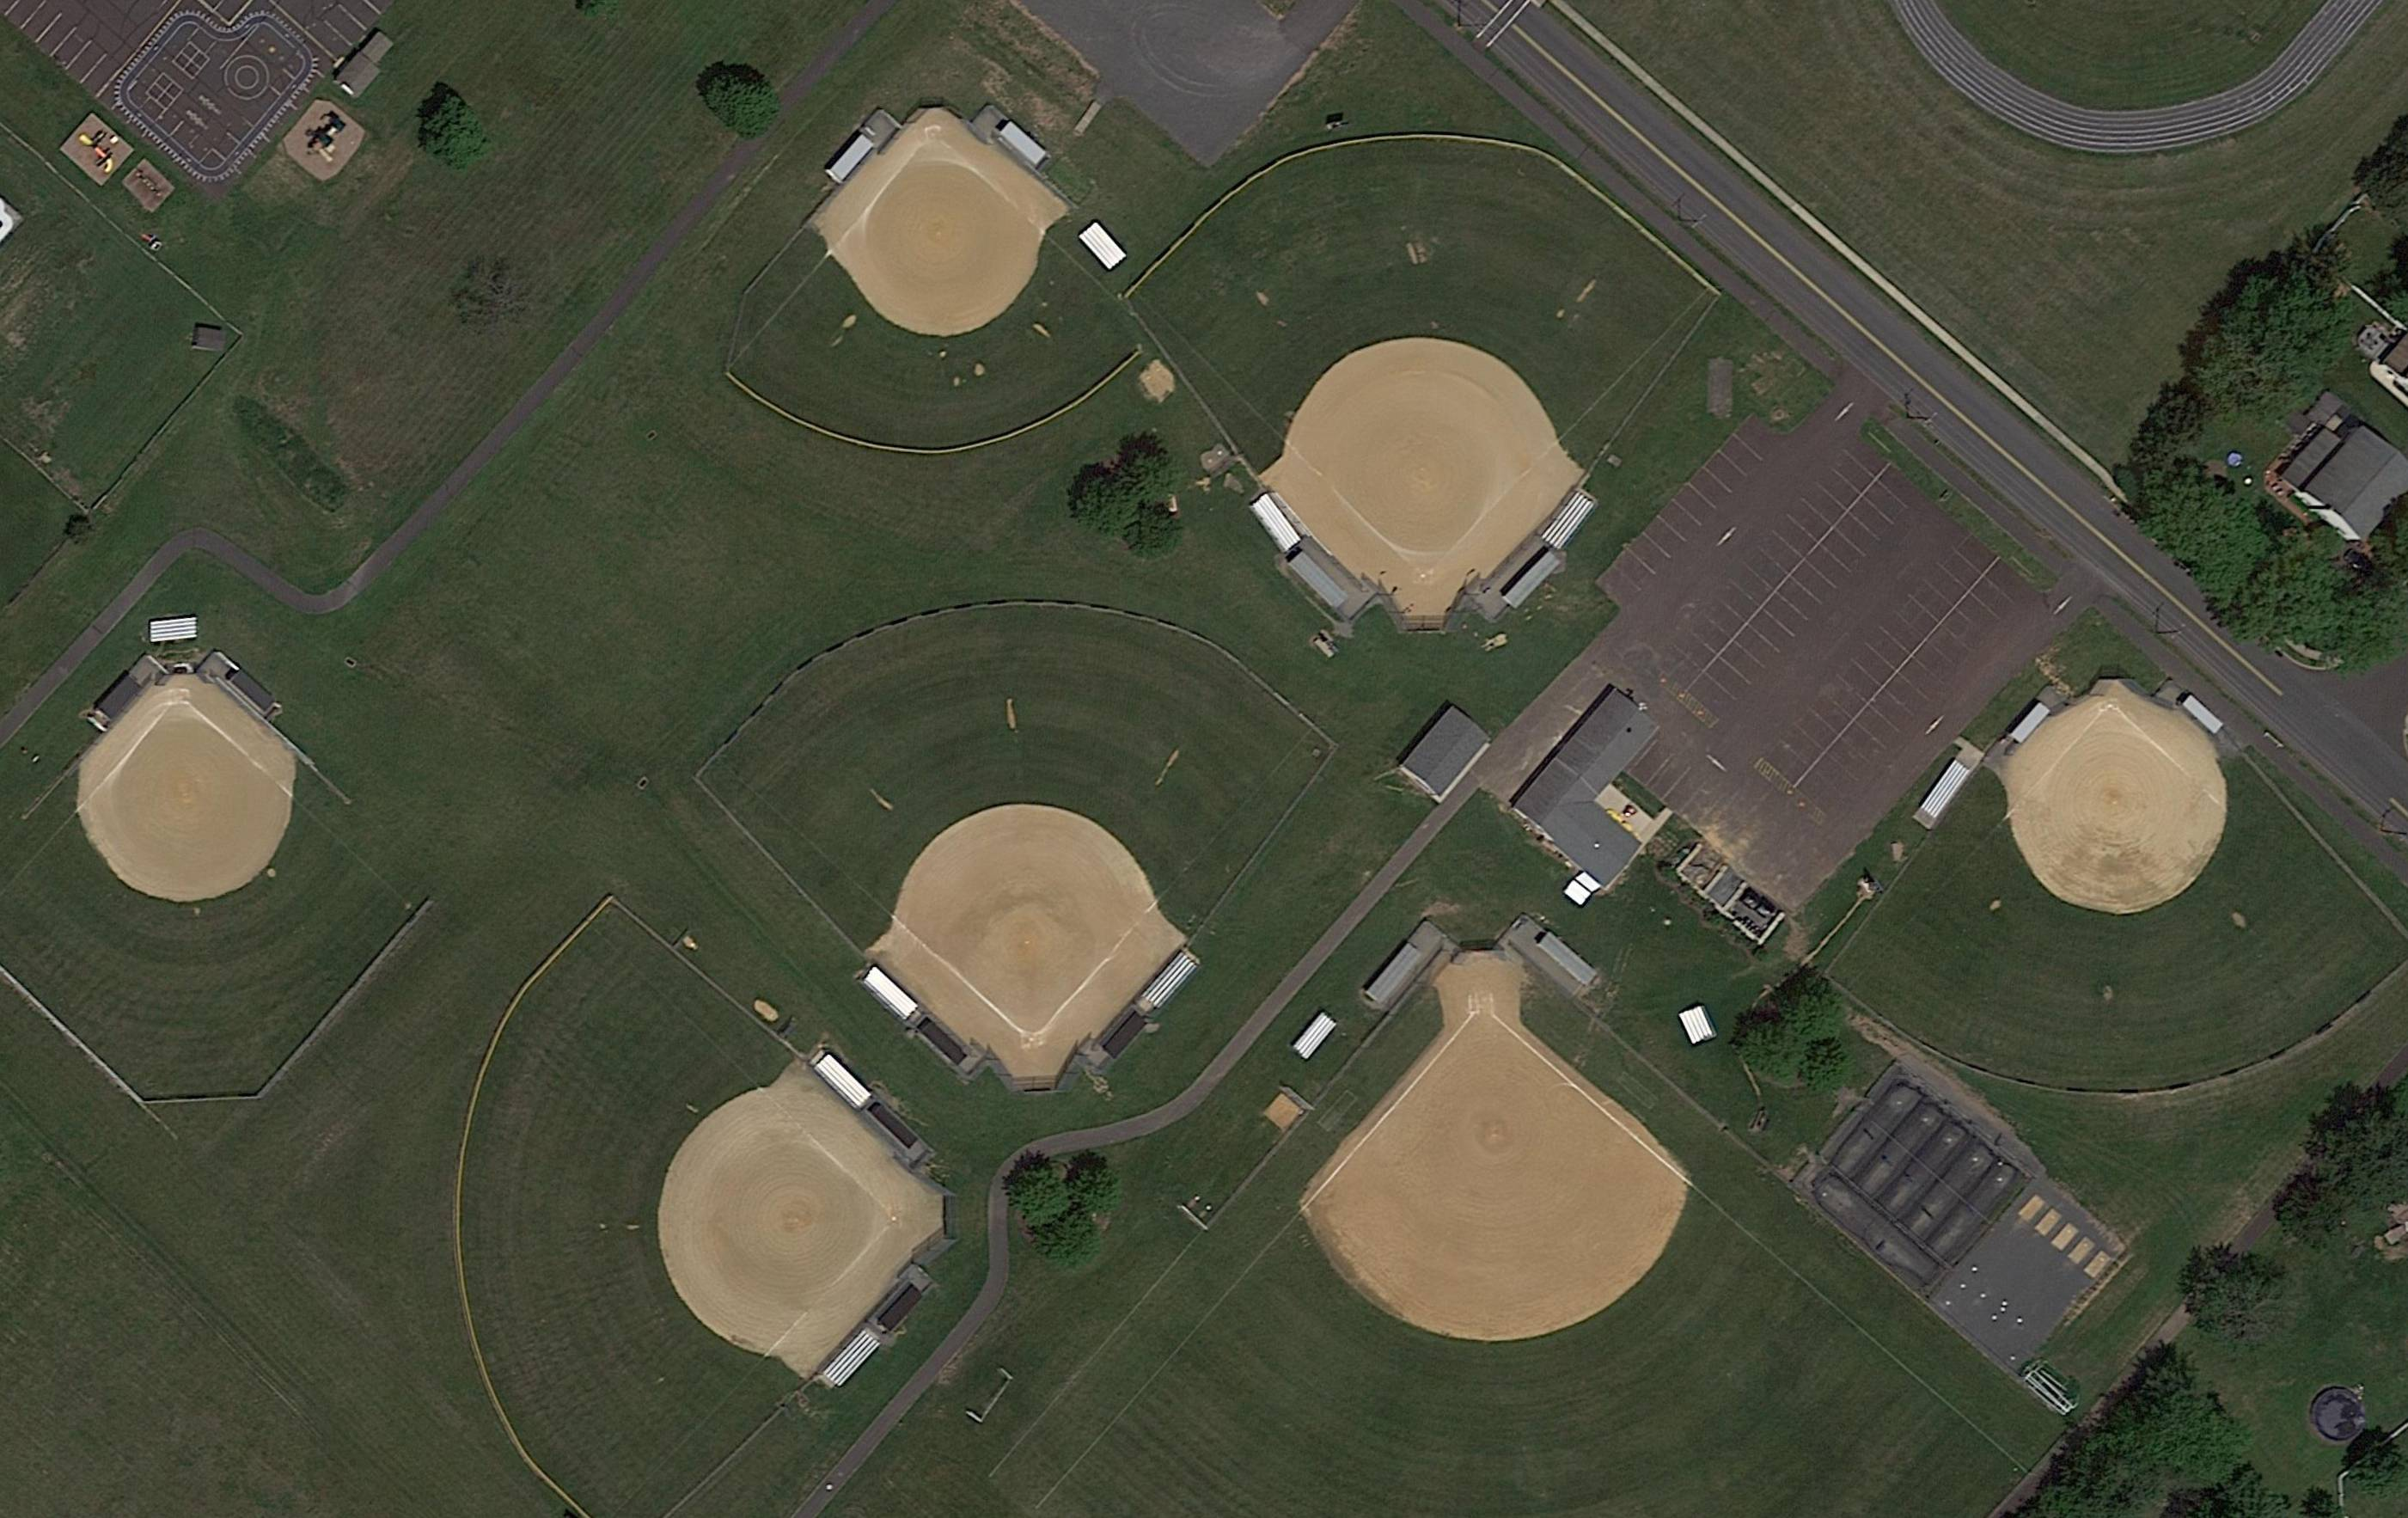baseball diamond: (1291, 1004, 1712, 1427), (1266, 280, 1572, 577), (600, 1072, 895, 1375), (873, 747, 1168, 1042), (1994, 701, 2244, 958), (65, 696, 315, 943), (818, 133, 1061, 369)
